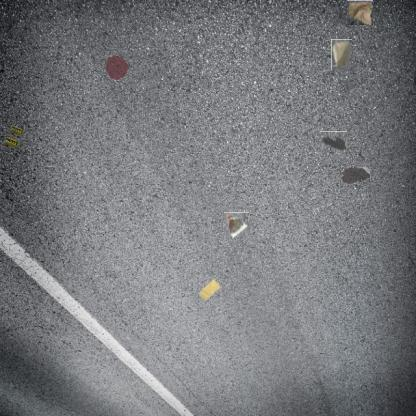dirty: (2, 124, 28, 152), (223, 213, 250, 239), (197, 276, 223, 302), (331, 39, 352, 70), (347, 0, 373, 25), (321, 130, 346, 154)
liquid: (106, 54, 132, 82), (340, 164, 370, 184)
